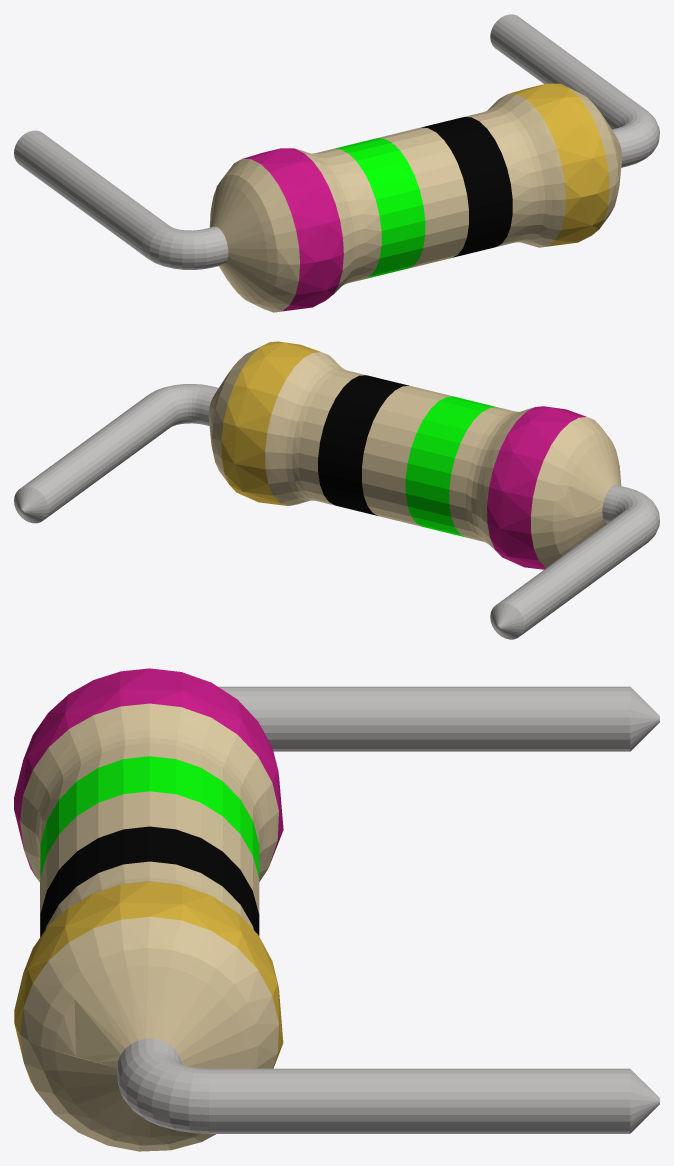
The model's file is Yageo CFR-25 Resistor Axial P7.62mm 75,0 Ohm.obj.
3 views of the same model, one above another, from view 1: azimuth 30°, elevation 25°; view 2: azimuth 150°, elevation 25°; view 3: azimuth 270°, elevation 25° (orthographic). The views are drawn at different scales.
Visible parts, largest first — view 1: Yageo_CFR-25_Resistor_Axial_P7.62mm_75,0_Ohm; view 2: Yageo_CFR-25_Resistor_Axial_P7.62mm_75,0_Ohm; view 3: Yageo_CFR-25_Resistor_Axial_P7.62mm_75,0_Ohm.
Part boxes in pixels (<box>): Yageo_CFR-25_Resistor_Axial_P7.62mm_75,0_Ohm: <box>14,14,659,312</box>; Yageo_CFR-25_Resistor_Axial_P7.62mm_75,0_Ohm: <box>14,341,659,639</box>; Yageo_CFR-25_Resistor_Axial_P7.62mm_75,0_Ohm: <box>14,668,659,1151</box>.
Size of the model in its own units: 0.0203 by 0.00559 by 0.0135.
